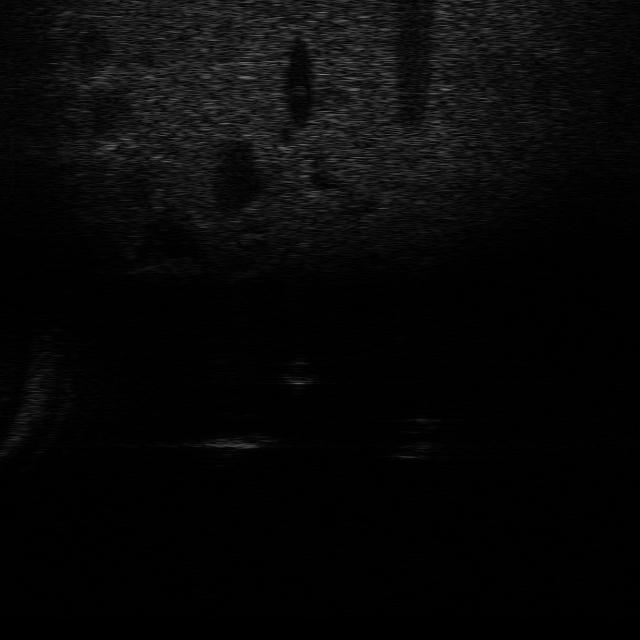ball: (275, 352, 324, 396)
square cage: (194, 426, 278, 465)
tyre: (381, 414, 441, 462)
